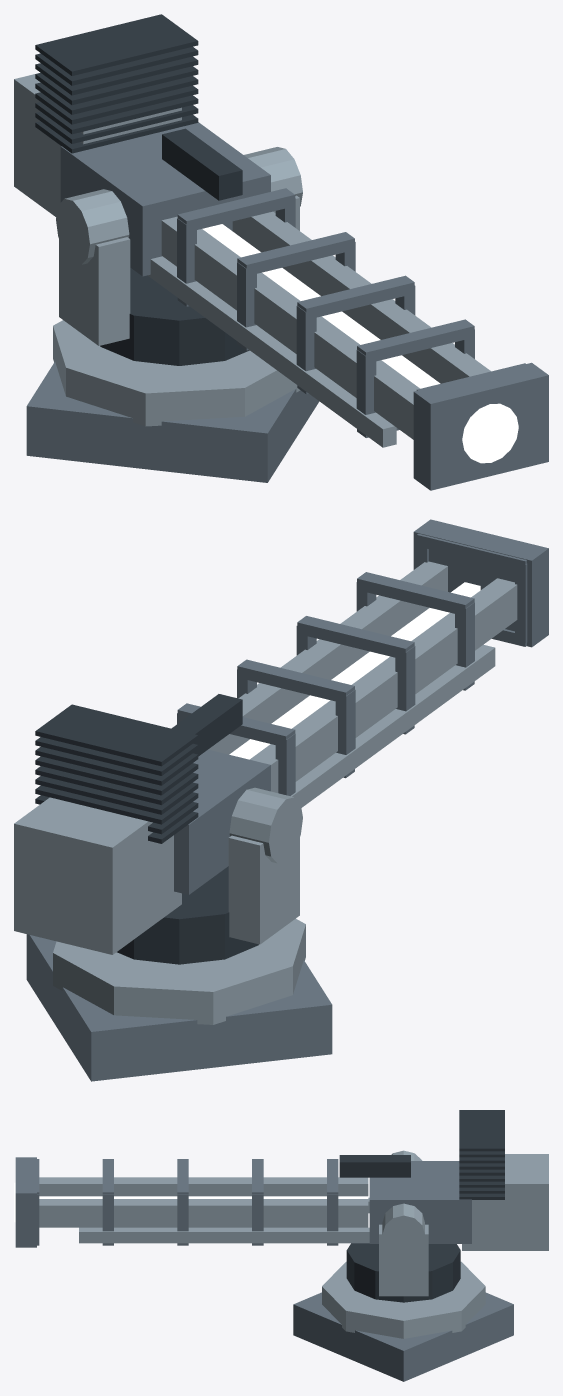
The model's file is lancer_t3.glb.
3 renders of one model, top to bottom at view 1: azimuth 30°, elevation 25°; view 2: azimuth 150°, elevation 25°; view 3: azimuth 270°, elevation 25°, orthographic. The views are drawn at different scales.
Visible parts, largest first — view 1: Rear radiator (×9), Conductive rail (×2), Foundation, Base upper armor, Receiver, Aperture, Focus collar bridge (×4), Yaw bearing, Longitudinal brace, Elevation fork, Trunnion (×2), Rear equipment (+4 smaller); view 2: Rear equipment, Foundation, Conductive rail (×2), Rear radiator (×7), Base upper armor, Focus collar bridge (×5), Receiver, Yaw bearing, Elevation fork, Aperture, Longitudinal brace, Focus collar upright (×5) (+3 smaller); view 3: Conductive rail (×2), Foundation, Base upper armor, Rear equipment, Receiver, Longitudinal brace, Yaw bearing, Elevation fork, Aperture, Rear radiator, Focus collar upright (×4), Trunnion (+3 smaller).
Boxes of the visible parts, box(x1,y1,x2,y2) form: Rear radiator (×9): box(35, 14, 198, 153); Conductive rail (×2): box(161, 211, 490, 439); Foundation: box(26, 362, 319, 482); Base upper armor: box(53, 320, 300, 426); Receiver: box(60, 122, 270, 276); Aperture: box(413, 362, 548, 490); Focus collar bridge (×4): box(177, 188, 474, 363); Yaw bearing: box(100, 268, 249, 365); Longitudinal brace: box(148, 256, 396, 447); Elevation fork: box(59, 237, 130, 345); Trunnion (×2): box(56, 147, 302, 264); Rear equipment: box(14, 72, 181, 216); Rear equipment: box(14, 797, 181, 954); Foundation: box(26, 934, 332, 1081); Conductive rail (×2): box(208, 561, 517, 792); Rear radiator (×7): box(35, 704, 198, 824); Base upper armor: box(53, 918, 305, 1024); Focus collar bridge (×5): box(177, 533, 526, 747); Receiver: box(174, 749, 270, 894); Yaw bearing: box(117, 866, 258, 964); Elevation fork: box(228, 835, 299, 944); Aperture: box(413, 519, 548, 647); Longitudinal brace: box(290, 644, 495, 807); Focus collar upright (×5): box(275, 562, 527, 795); Conductive rail (×2): box(39, 1177, 368, 1227); Foundation: box(293, 1292, 513, 1381); Base upper armor: box(322, 1261, 485, 1338); Rear equipment: box(462, 1154, 548, 1250); Receiver: box(369, 1161, 471, 1243); Longitudinal brace: box(79, 1227, 369, 1243); Yaw bearing: box(346, 1243, 460, 1302); Elevation fork: box(379, 1224, 428, 1296); Aperture: box(15, 1157, 36, 1247); Rear radiator: box(459, 1110, 504, 1151); Focus collar upright (×4): box(102, 1194, 338, 1243); Trunnion: box(382, 1203, 424, 1254).
Bounding box in the file's own units: 1.55 × 1.6 × 3.76.
